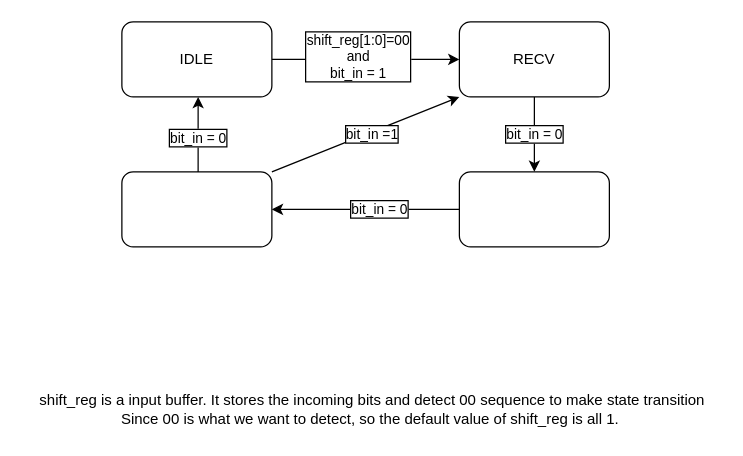
Image size: 743x456. Some labels were removed from this diagram. The shapes that lost their labels are listed below. From the top down, each one's centre as x and y in pixels, then its label:
At (196,209): "DECODE".
At (533,209): "END_CHECK".
